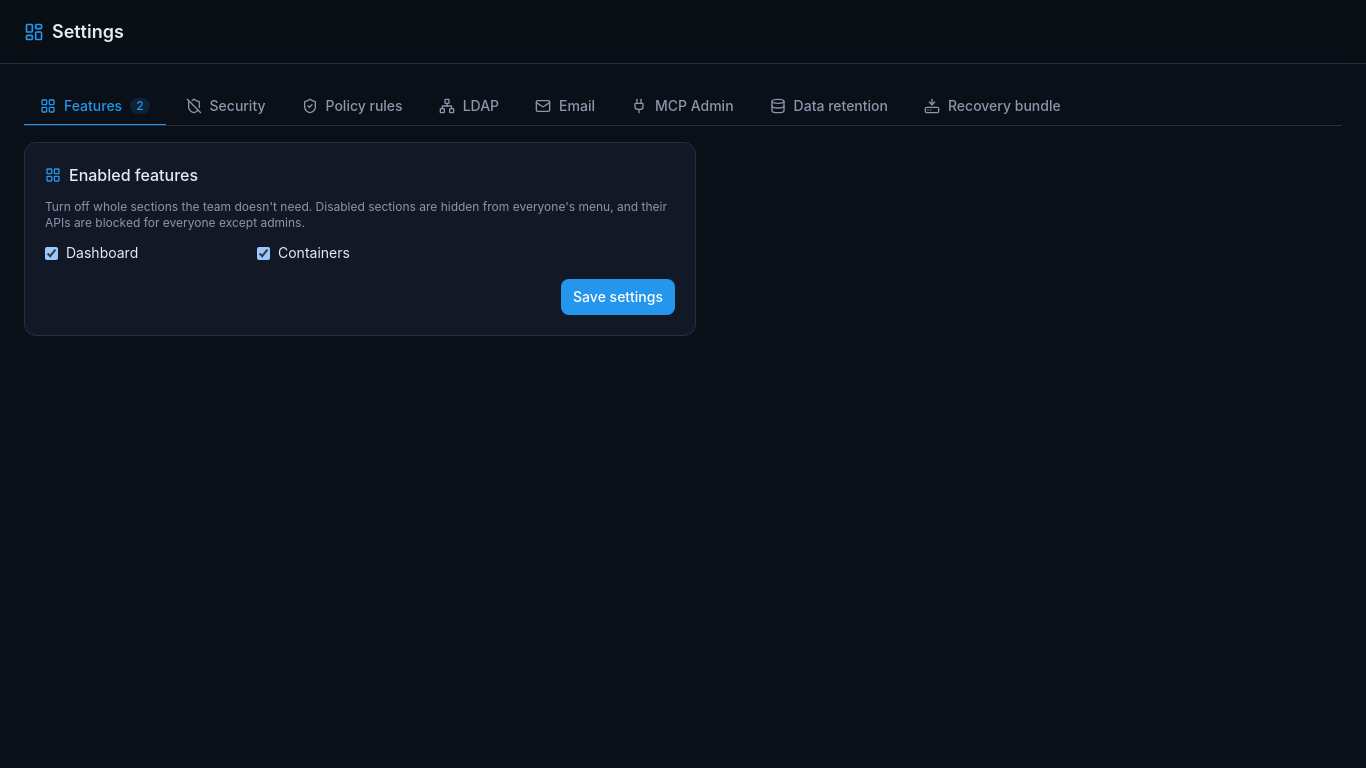
Settings save feedback › gives Security its own wording, which stays out of Features
Step 1. Click the button "Security" → (226, 107), box [170,88,282,126]
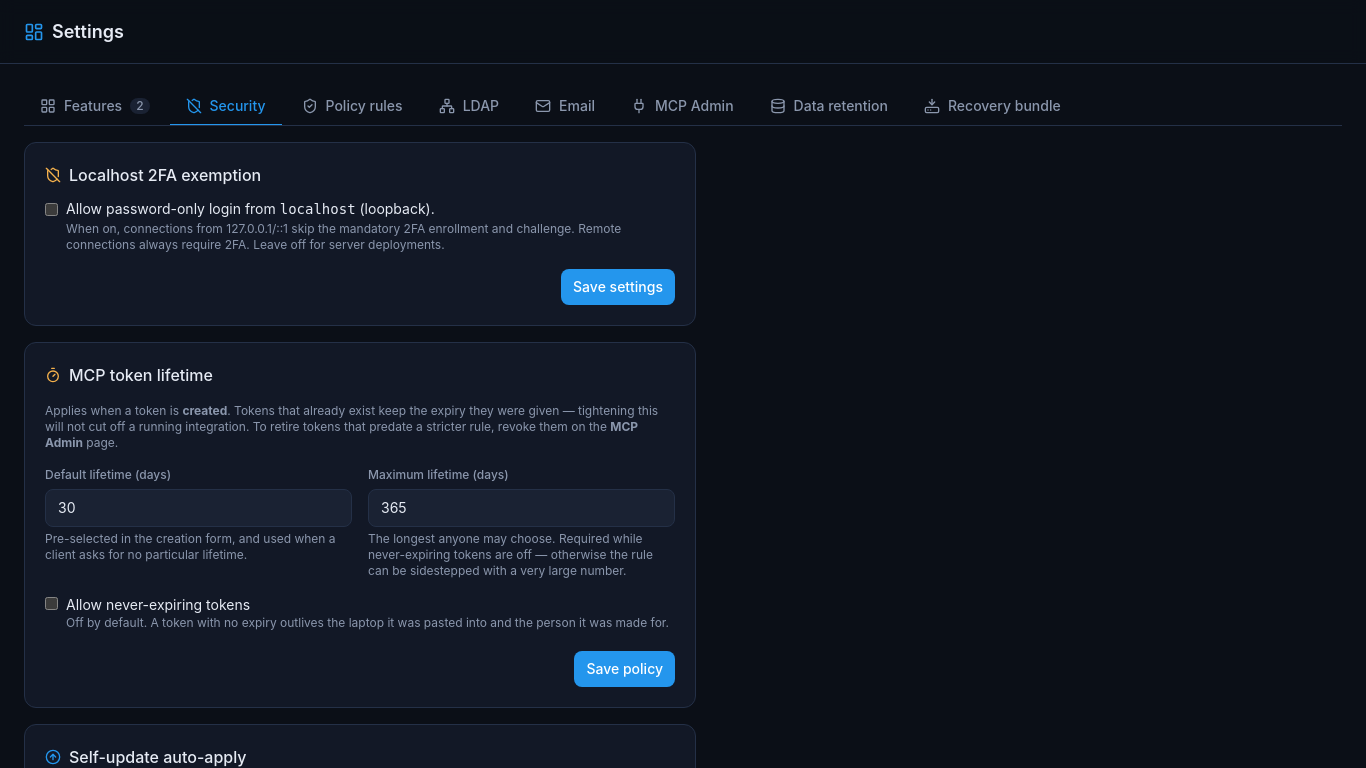
Step 2. Click the button "Save settings" → (618, 287), box [561,269,675,305]
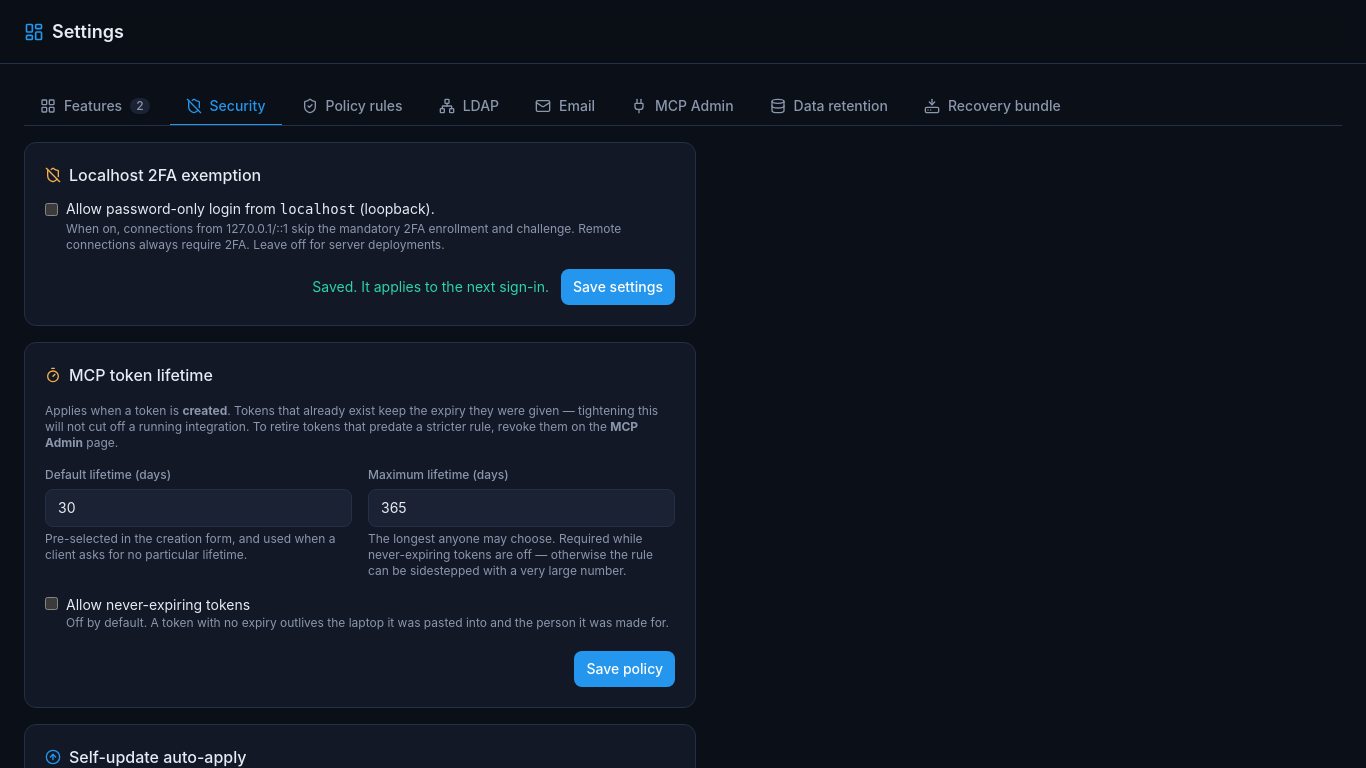
expect the text "next sign-in" is shown: met, box [312,278,549,295]
Step 3. Click the button "Features 2" → (95, 107), box [24,88,166,126]
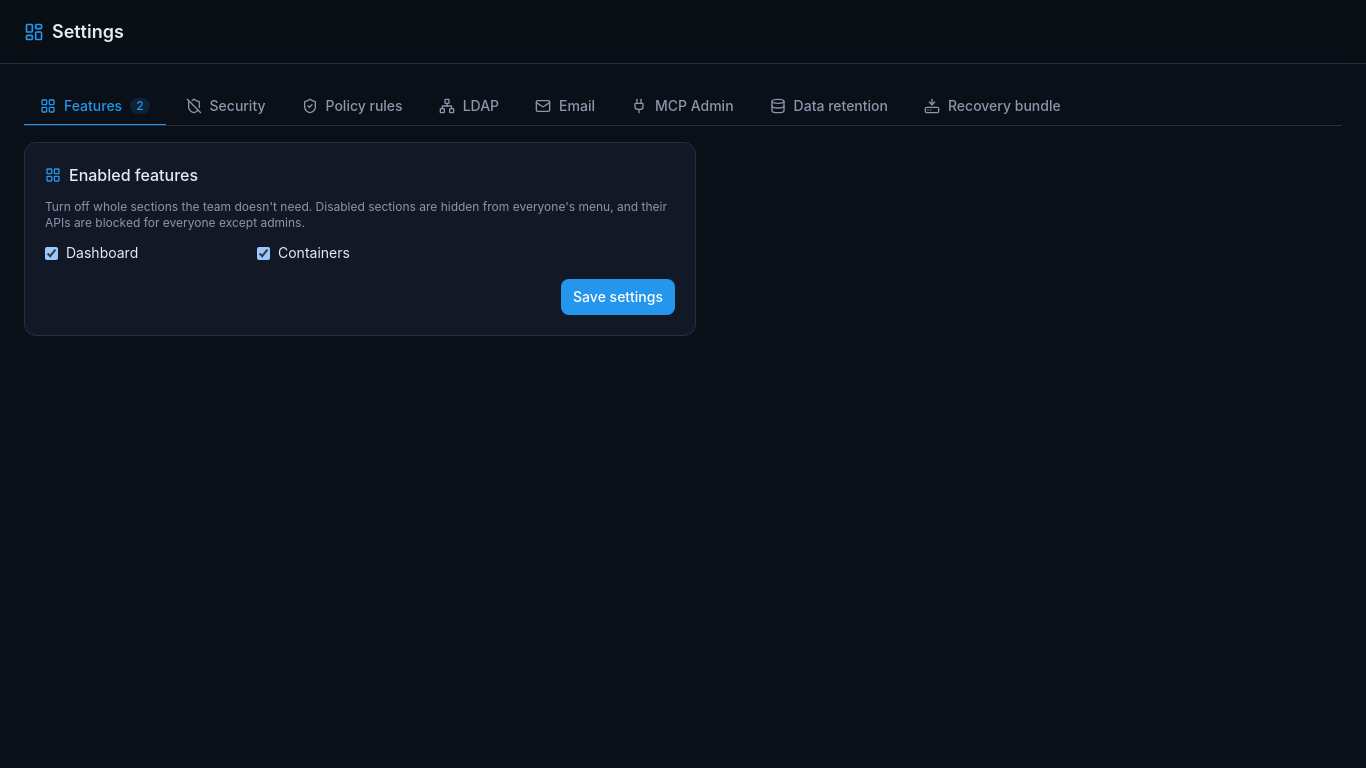
expect the text "next sign-in" is gone: met
